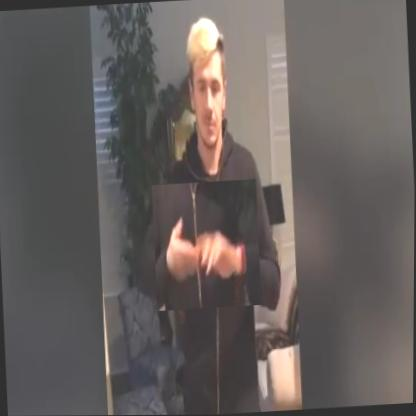NiceToMeetYou: (151, 179, 262, 311)
